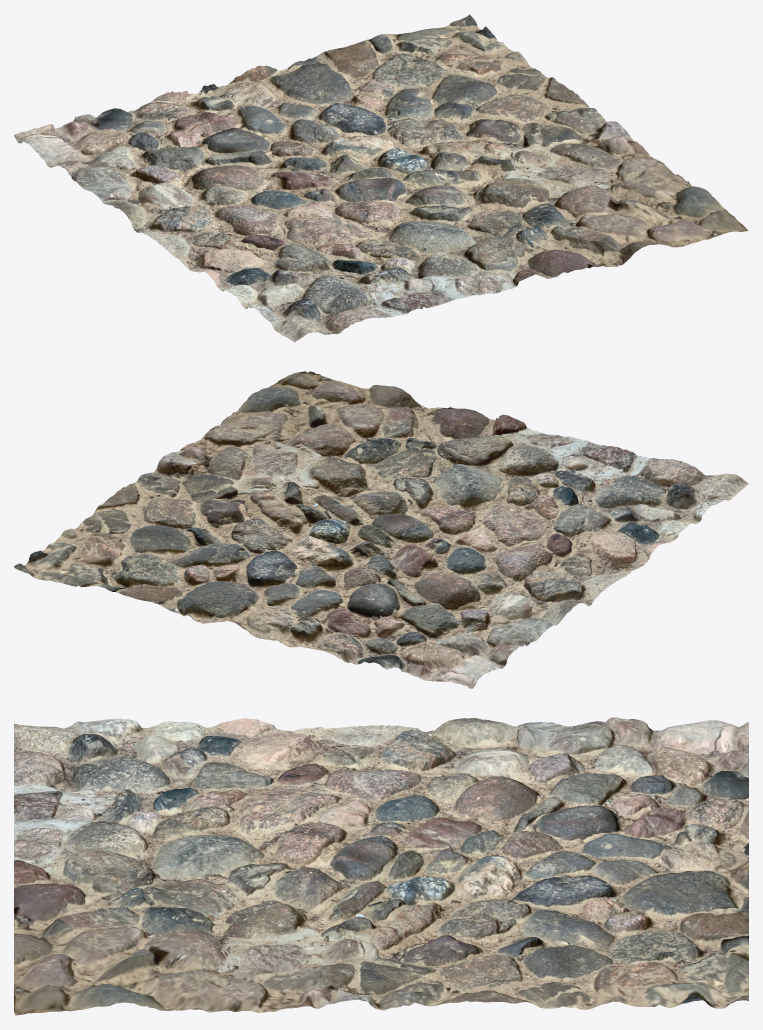
The model's file is stone-floor.glb.
The picture shows the model from 3 angles, top to bottom: view 1: azimuth 30°, elevation 25°; view 2: azimuth 150°, elevation 25°; view 3: azimuth 270°, elevation 25°; orthographic projection. The views are drawn at different scales.
Parts seen in each view (by area): view 1: Object_4; view 2: Object_4; view 3: Object_4.
Boxes of the visible parts, <box> form: Object_4: <box>14,14,748,342</box>; Object_4: <box>14,371,748,688</box>; Object_4: <box>14,717,748,1015</box>.
Size of the model in its own units: 1.06 by 0.0446 by 1.14.
1 material, 1 textured.
